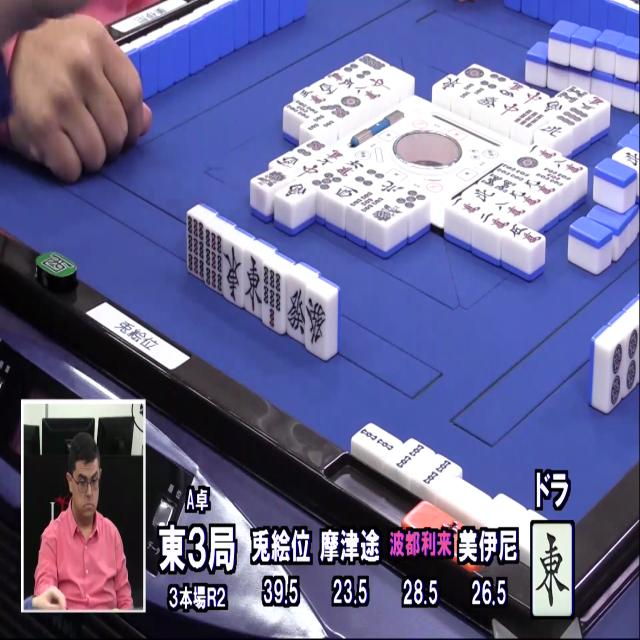east: (532, 522, 574, 614), (222, 243, 242, 308), (244, 252, 262, 317)
fa: (306, 293, 331, 357), (284, 277, 306, 342)
s2: (354, 424, 395, 455), (420, 452, 452, 489), (395, 439, 425, 476)
s7: (263, 264, 285, 333)
s9: (204, 229, 224, 295), (188, 216, 206, 281)
t2: (622, 322, 640, 392)
t5: (606, 339, 628, 411)
